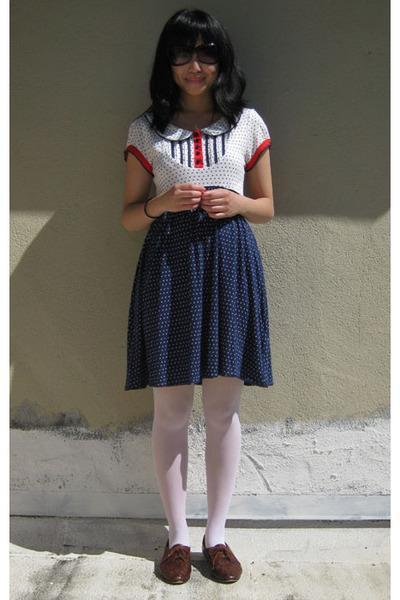shirt: (127, 108, 269, 195)
shoe: (156, 540, 241, 584)
skirt: (125, 204, 272, 390)
